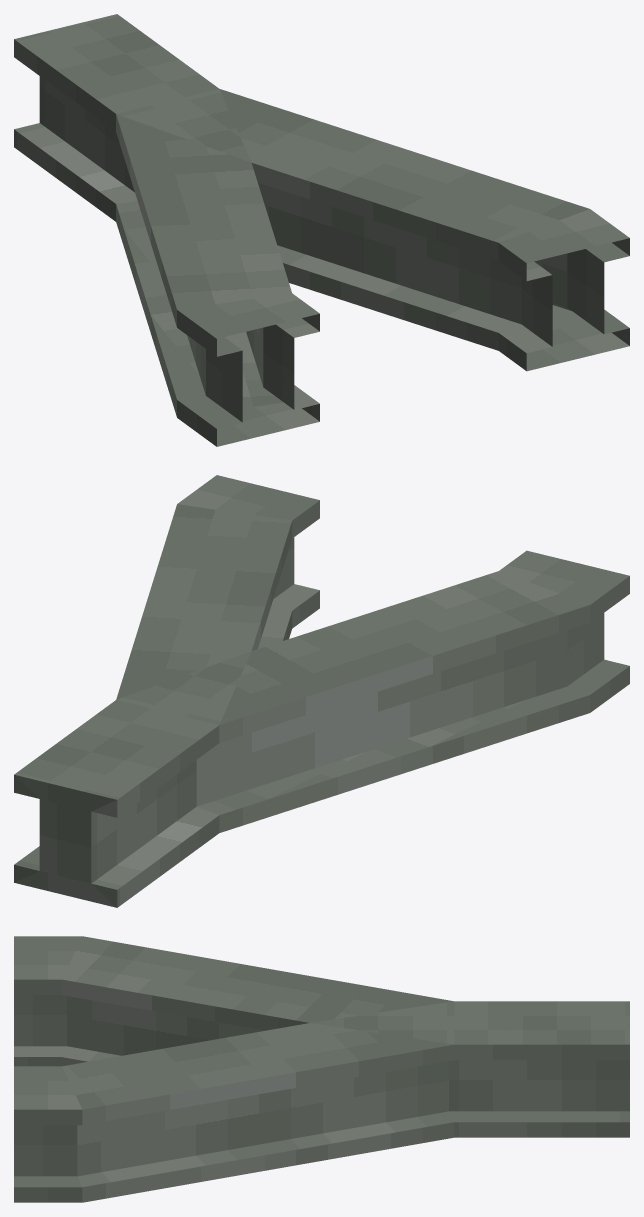
File: power_line_bracket_on_lattice2.obj
3 renders of one model, top to bottom at view 1: azimuth 30°, elevation 25°; view 2: azimuth 150°, elevation 25°; view 3: azimuth 270°, elevation 25°, orthographic. The views are drawn at different scales.
Visible parts, largest first — view 1: b3.004; view 2: b3.004; view 3: b3.004.
Part boxes in pixels (<box>): b3.004: <box>14,14,629,446</box>; b3.004: <box>14,475,629,907</box>; b3.004: <box>14,936,629,1202</box>.
Size of the model in its own units: 0.75 by 0.1875 by 1.12.
